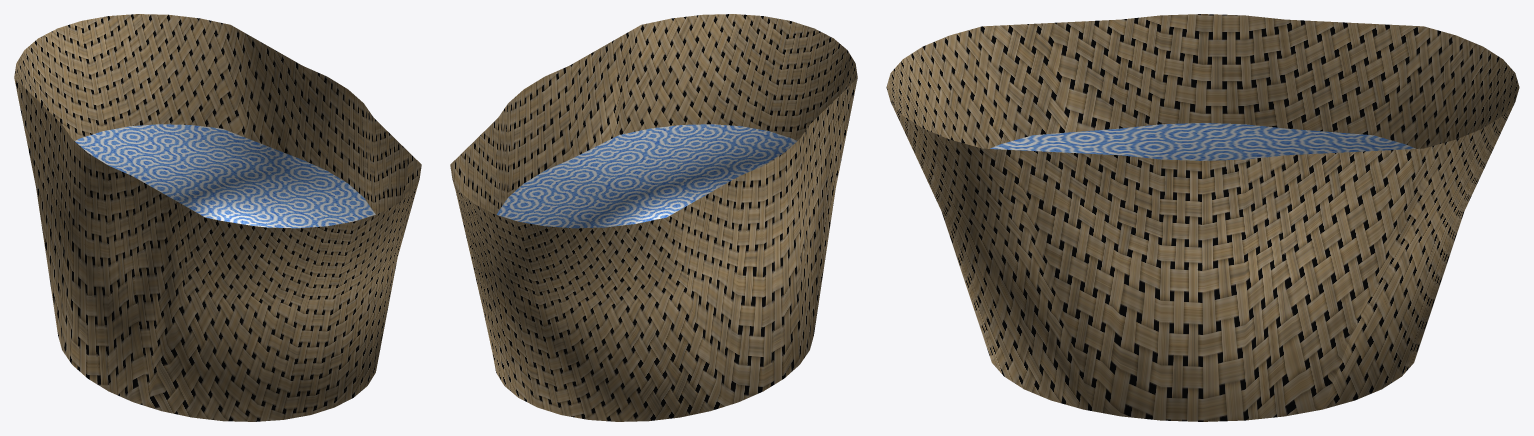
File: Basket_Rags.glb
3 views of the same model, side by side, from view 1: azimuth 30°, elevation 25°; view 2: azimuth 150°, elevation 25°; view 3: azimuth 270°, elevation 25° (orthographic). The views are drawn at different scales.
Parts seen in each view (by area): view 1: Circle; view 2: Circle; view 3: Circle.
Boxes of the visible parts, box(x1,y1,x2,y2) form: Circle: box(14, 14, 421, 421); Circle: box(450, 14, 857, 421); Circle: box(886, 14, 1519, 421).
Bounding box in the file's own units: 1.21 × 1 × 2.2.
Materials: 2 (2 with a texture image).
